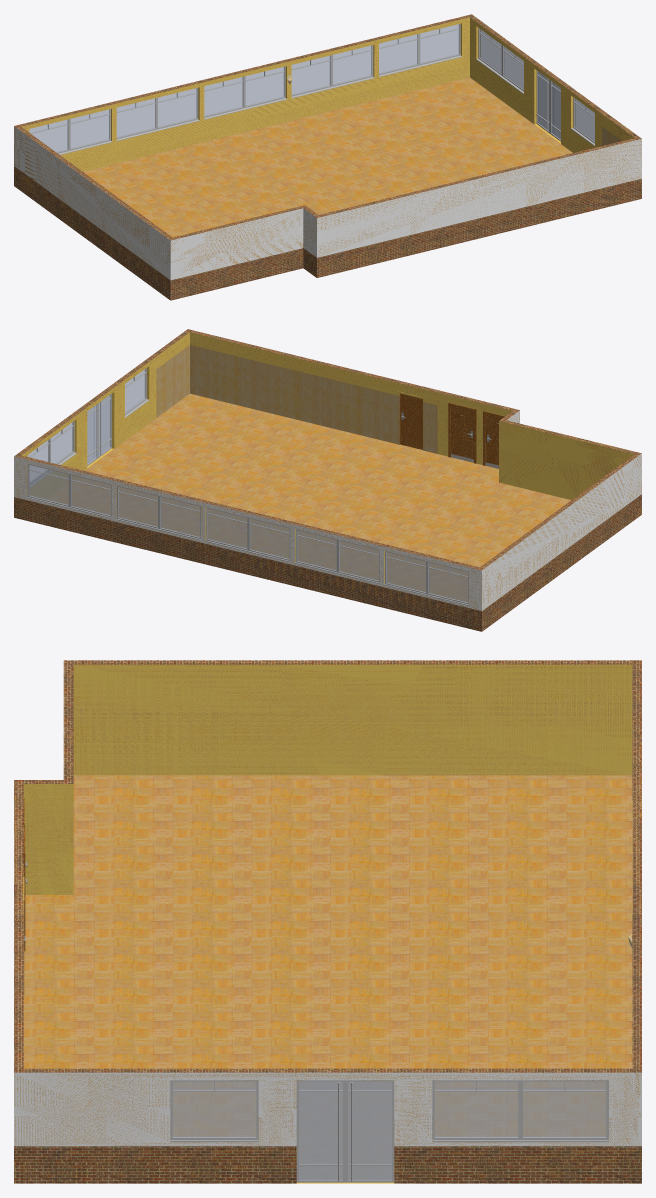
The model's file is mj_restaurant.dae.
3 renders of one model, top to bottom at view 1: azimuth 30°, elevation 25°; view 2: azimuth 150°, elevation 25°; view 3: azimuth 270°, elevation 25°, orthographic. The views are drawn at different scales.
Visible parts, largest first — view 1: Komponente_50 (×5), Komponente_53 (×13), Komponente_56; view 2: Komponente_50 (×10), Komponente_53 (×22), Komponente_56; view 3: Komponente_50 (×5), Komponente_53 (×6), Komponente_56 (×2), Komponente_52 (×3), Komponente_55 (×2).
Boxes of the visible parts, x1,y1,x2,y2 form: Komponente_50 (×5): [14, 14, 641, 300]; Komponente_53 (×13): [31, 29, 594, 152]; Komponente_56: [538, 76, 549, 122]; Komponente_50 (×10): [14, 329, 641, 631]; Komponente_53 (×22): [29, 374, 468, 602]; Komponente_56: [99, 399, 110, 446]; Komponente_50 (×5): [14, 660, 641, 1183]; Komponente_53 (×6): [172, 1091, 606, 1137]; Komponente_56 (×2): [299, 1091, 391, 1164]; Komponente_52 (×3): [170, 1080, 608, 1142]; Komponente_55 (×2): [296, 1080, 394, 1182].
Bounding box in the file's own units: 786 × 505 × 98.43.
